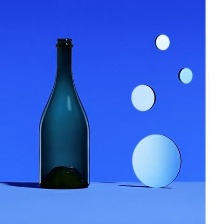bottle: (34, 34, 96, 194)
